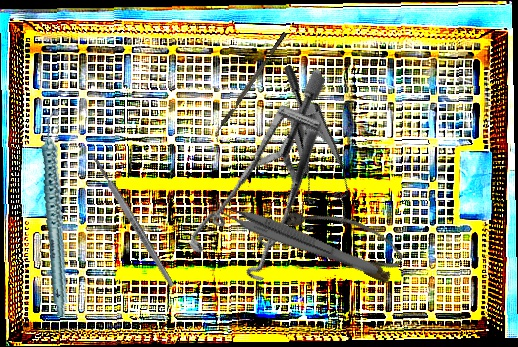Cannula: (277, 191, 409, 286)
Chopper: (210, 31, 292, 143)
Handpiece: (11, 107, 102, 318)
Scalpel Handle: (91, 155, 177, 290)
Speculum: (145, 68, 396, 303), (223, 62, 383, 247)
Tissue Forceps: (212, 197, 383, 278)
